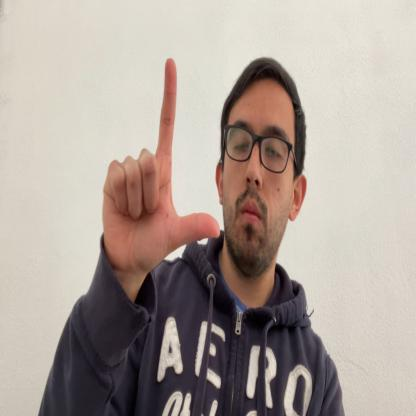L: (102, 56, 220, 275)
